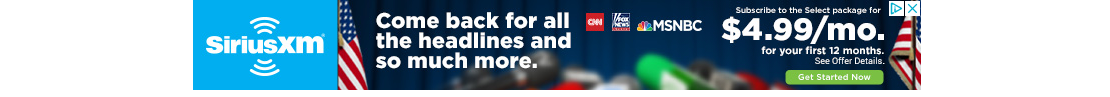fake_button: (772, 62, 897, 92)
